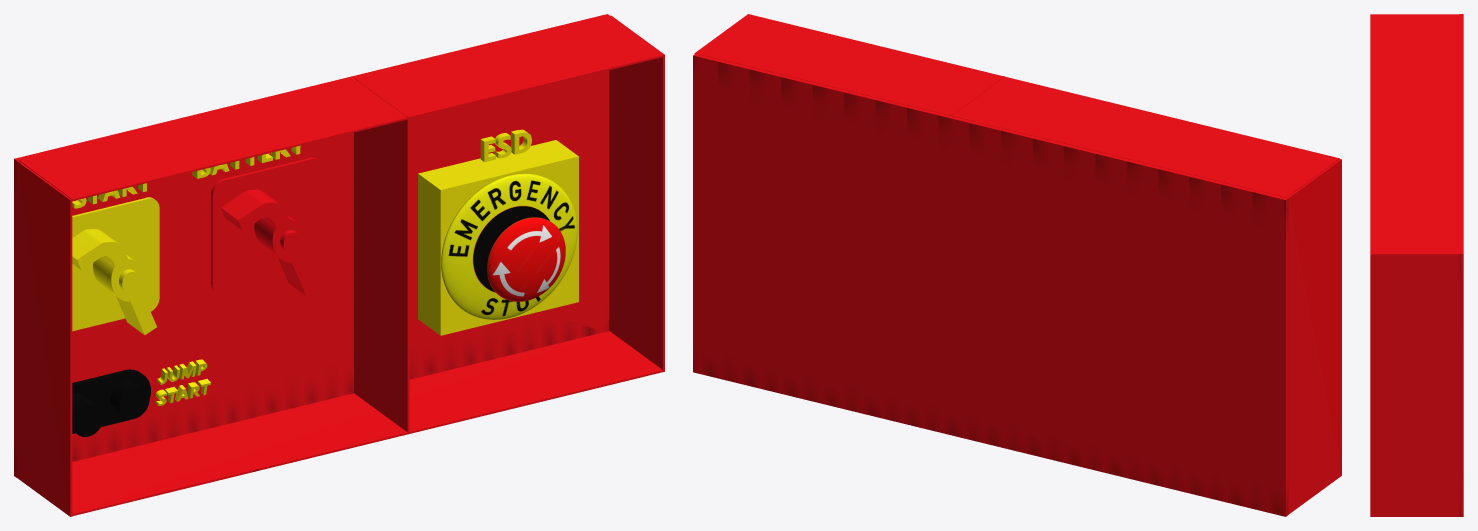
The model's file is loto_box.glb.
3 renders of one model, left to right at view 1: azimuth 30°, elevation 25°; view 2: azimuth 150°, elevation 25°; view 3: azimuth 270°, elevation 25°, orthographic. The views are drawn at different scales.
Parts seen in each view (by area): view 1: node_id30_19, node_id45_33, node_id33_21, node_id39_31, node_id36_27, node_id42_20, node_id67_108, node_id71_111, node_id111_50, node_id79_117, node_id138_75, node_id150_85 (+13 smaller); view 2: node_id30_19, node_id45_33, node_id39_31; view 3: node_id42_20, node_id45_33, node_id30_19.
Part boxes in pixels (x1,y1,x2,y2): node_id30_19: (14, 14, 609, 477); node_id45_33: (19, 15, 664, 201); node_id33_21: (71, 331, 662, 516); node_id39_31: (16, 160, 72, 516); node_id36_27: (354, 77, 409, 432); node_id42_20: (609, 55, 664, 371); node_id67_108: (418, 140, 578, 335); node_id71_111: (441, 173, 577, 319); node_id111_50: (224, 158, 310, 294); node_id79_117: (487, 217, 565, 301); node_id138_75: (72, 198, 147, 331); node_id150_85: (221, 189, 318, 295); node_id30_19: (693, 53, 1288, 516); node_id45_33: (694, 14, 1339, 197); node_id39_31: (1287, 159, 1341, 514); node_id42_20: (1370, 256, 1459, 516); node_id45_33: (1370, 14, 1459, 255); node_id30_19: (1459, 14, 1463, 516).
Bounding box in the file's own units: 0.512 × 0.2613 × 0.084.
40 materials, 40 textured.
